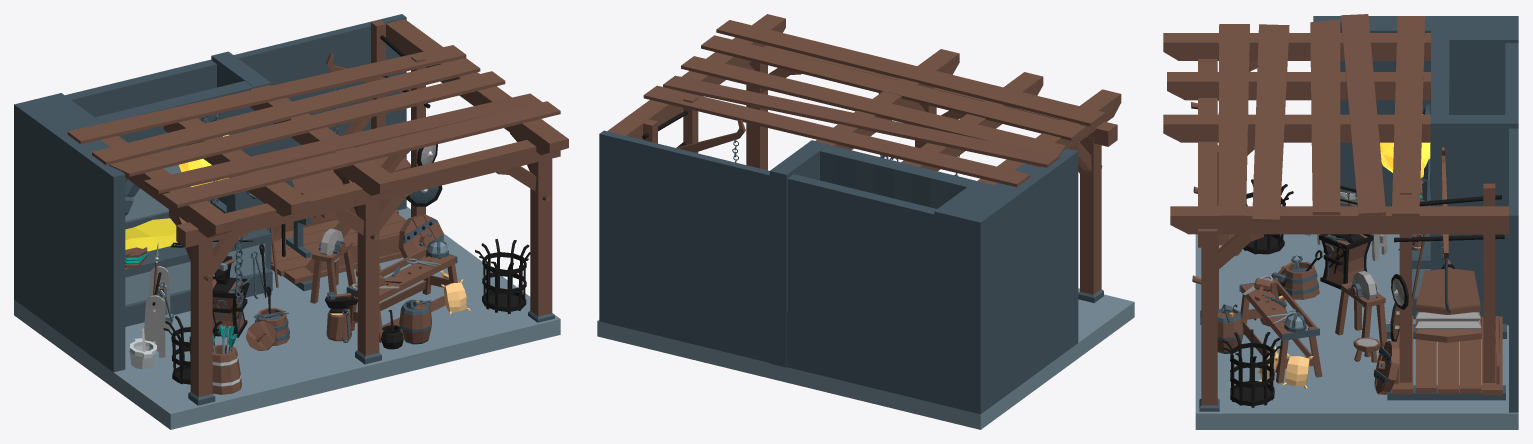
Rendered from prop_blacksmith_forge_deluxe.glb.
3 renders of one model, left to right at view 1: azimuth 30°, elevation 25°; view 2: azimuth 150°, elevation 25°; view 3: azimuth 270°, elevation 25°, orthographic. The views are drawn at different scales.
Visible parts, largest first — view 1: prop_blacksmith_forge_deluxe; view 2: prop_blacksmith_forge_deluxe; view 3: prop_blacksmith_forge_deluxe.
Part boxes in pixels (x1=…): prop_blacksmith_forge_deluxe: x1=14, y1=14, x2=568, y2=429; prop_blacksmith_forge_deluxe: x1=597, y1=14, x2=1134, y2=429; prop_blacksmith_forge_deluxe: x1=1163, y1=14, x2=1518, y2=429.
Size of the model in its own units: 2.5 by 1.31 by 1.86.
